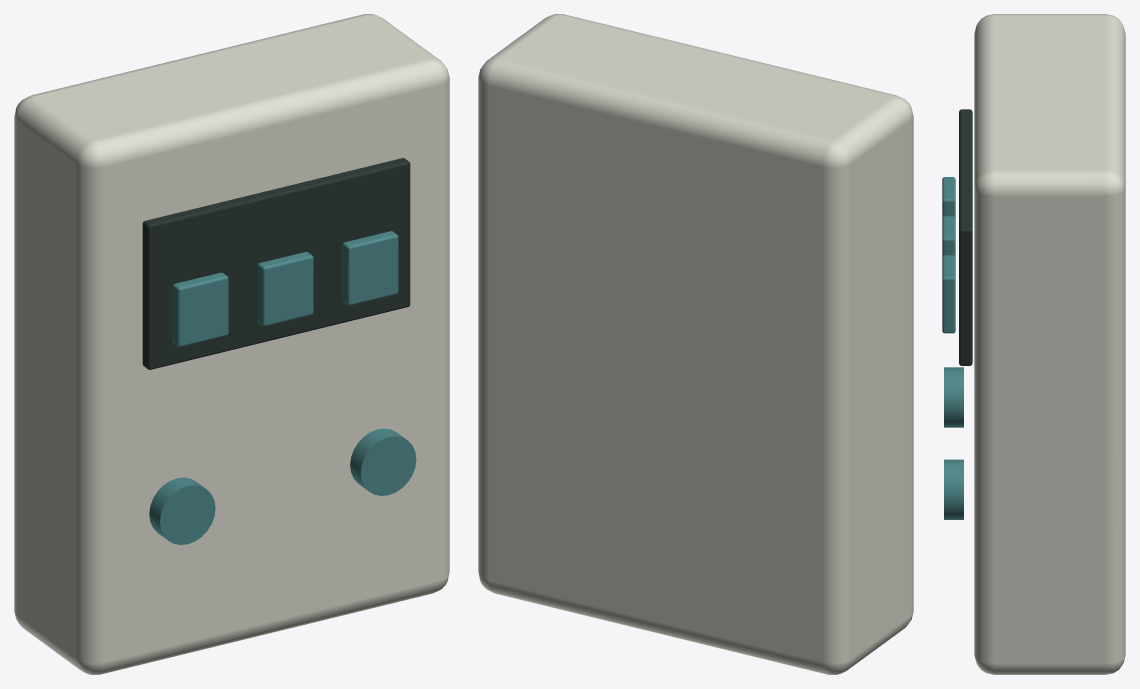
File: mushroom-farm-and-grow-rooms-humidity-control-panel-8d6e0669__30838.glb
The picture shows the model from 3 angles, left to right: view 1: azimuth 30°, elevation 25°; view 2: azimuth 150°, elevation 25°; view 3: azimuth 270°, elevation 25°; orthographic projection. The views are drawn at different scales.
Visible parts, largest first — view 1: humidity-control-panel; view 2: humidity-control-panel; view 3: humidity-control-panel.
Boxes of the visible parts, box(x1,y1,x2,y2) form: humidity-control-panel: box(14, 14, 449, 674); humidity-control-panel: box(478, 14, 913, 674); humidity-control-panel: box(942, 14, 1125, 674).
Bounding box in the file's own units: 0.24 × 0.33 × 0.109.
